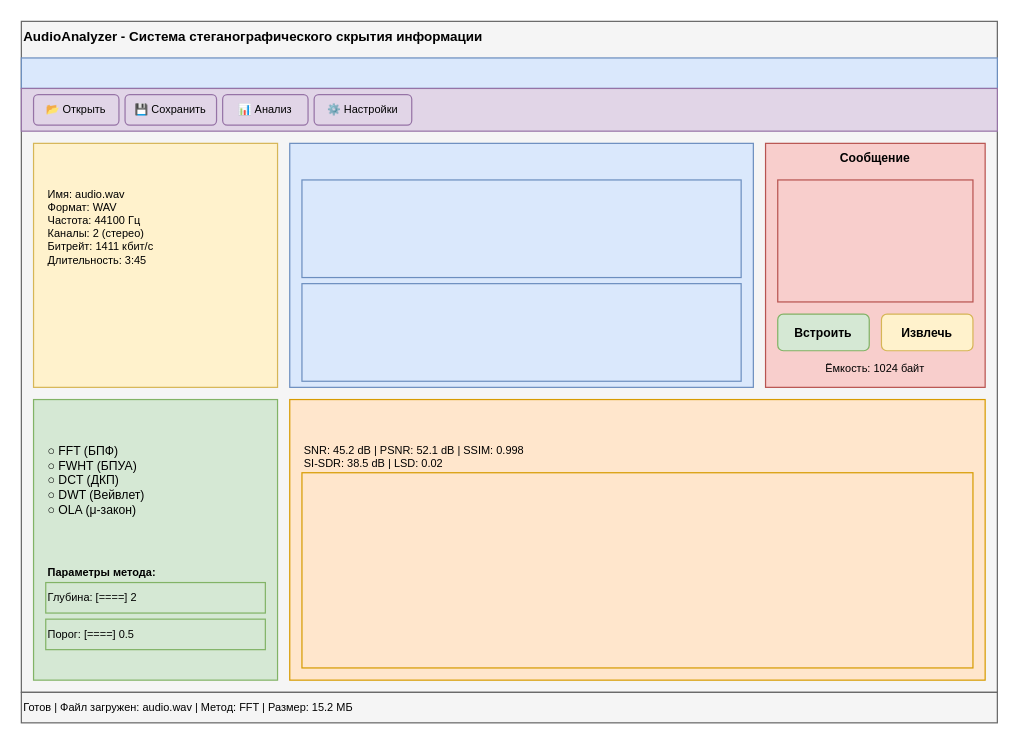
This 1019x744 diagram has some shape labels left out. Each missing label, with the box of its shape:
Введите сообщение для скрытия...: (777, 179, 973, 302)
Визуализация сигнала: (289, 142, 753, 387)
Выбор метода: (32, 398, 278, 680)
Информация о файле: (32, 142, 278, 387)
Результаты анализа: (289, 398, 985, 680)
Файл Правка Метод Анализ Справка: (20, 57, 997, 88)
